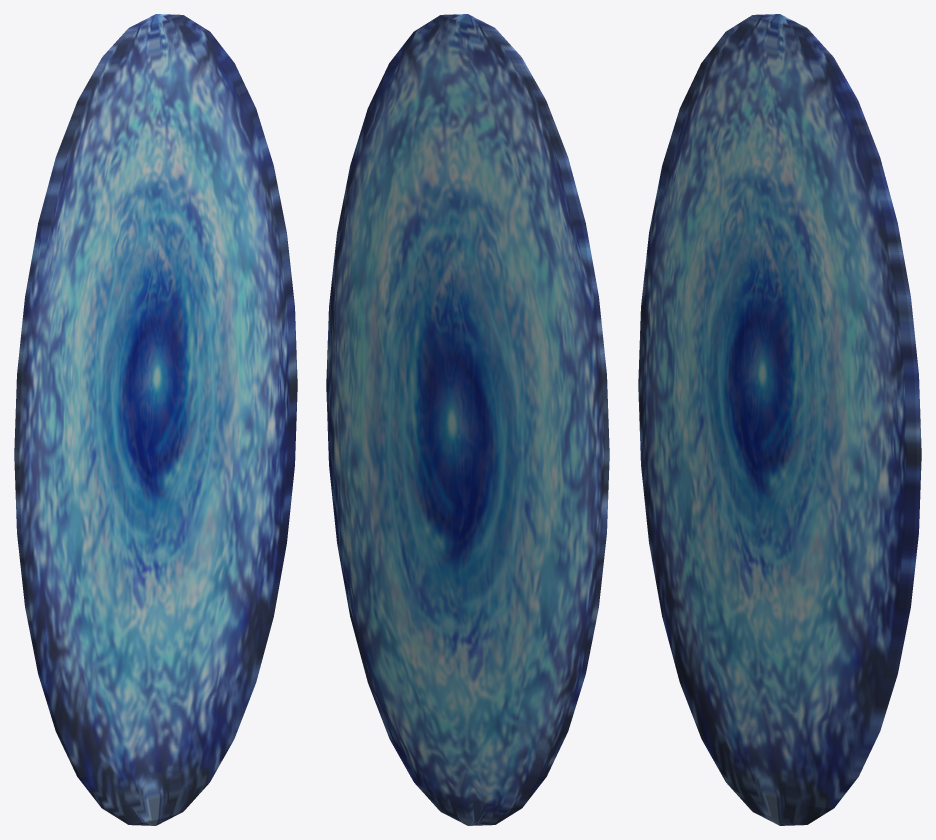
Rendered from portal0.obj.
3 views of the same model, side by side, from view 1: azimuth 30°, elevation 25°; view 2: azimuth 150°, elevation 25°; view 3: azimuth 330°, elevation 25° (orthographic).
Parts seen in each view (by area): view 1: Sphere; view 2: Sphere; view 3: Sphere.
Part boxes in pixels (left/top/right/bottom): Sphere: left=14, top=14, right=297, bottom=825; Sphere: left=326, top=14, right=609, bottom=825; Sphere: left=638, top=14, right=921, bottom=825.
Size of the model in its own units: 3.67 by 10.04 by 0.423.
Materials: 1 (1 with a texture image).
